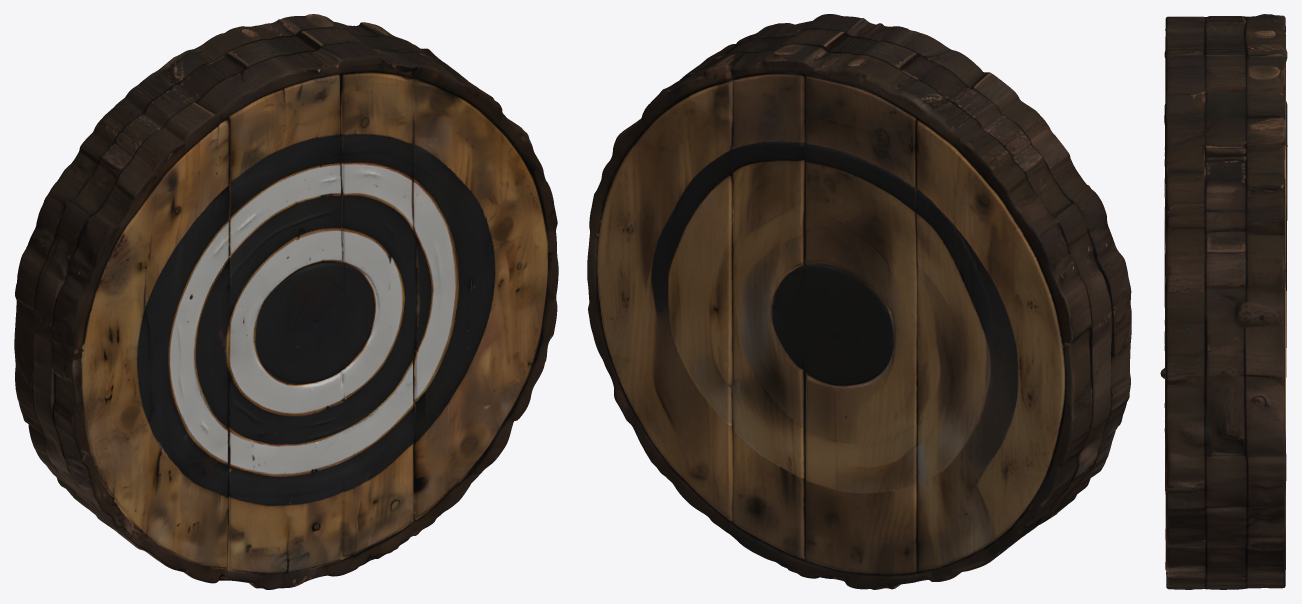
Rendered from tripo_convert_49ae19de-dbb6-4aa5-b909-cd5cfa85f3ba.fbx.
The picture shows the model from 3 angles, left to right: view 1: azimuth 30°, elevation 25°; view 2: azimuth 150°, elevation 25°; view 3: azimuth 270°, elevation 25°; orthographic projection.
Visible parts, largest first — view 1: tripo_node_49ae19de; view 2: tripo_node_49ae19de; view 3: tripo_node_49ae19de.
Part boxes in pixels (x1,y1,x2,y2): tripo_node_49ae19de: (14, 14, 558, 589); tripo_node_49ae19de: (587, 14, 1131, 589); tripo_node_49ae19de: (1160, 14, 1287, 589).
Size of the model in its own units: 0.9901 by 1 by 0.2207.
1 material, 1 textured.
